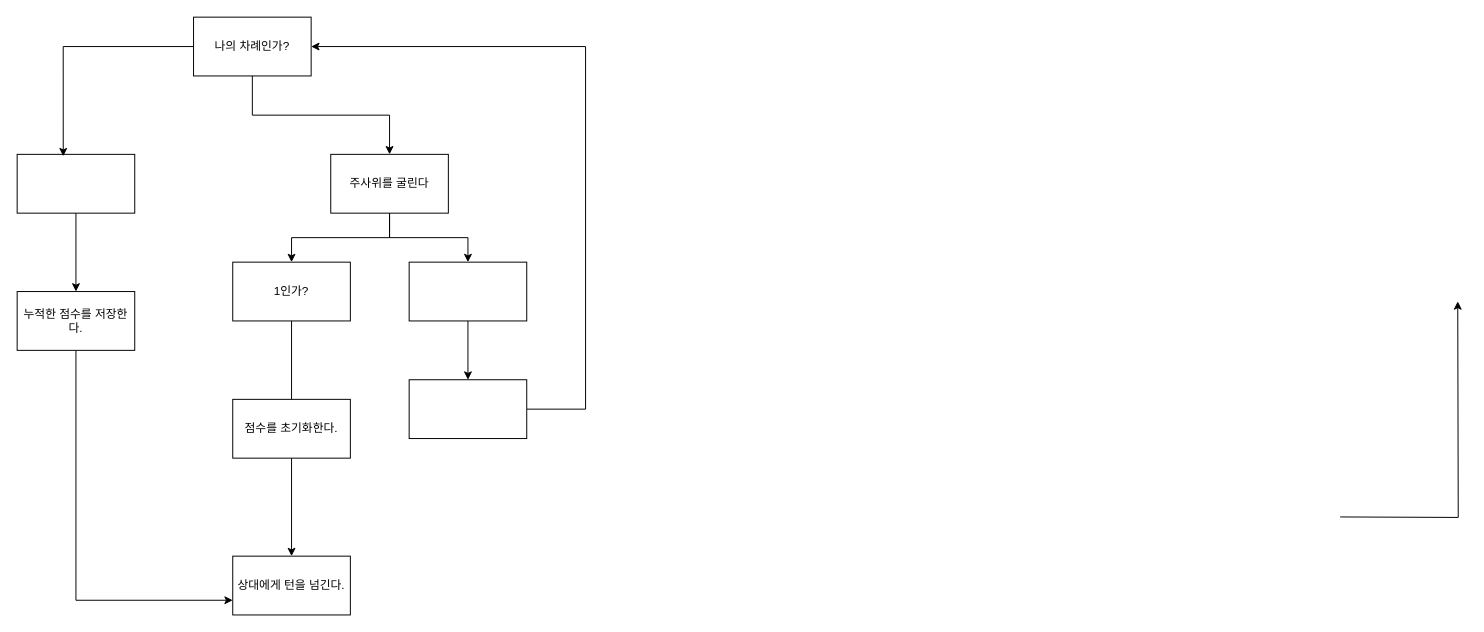
Some shapes in this 1484 by 632 pixel diagram are drawn without their labels. Here are the shapes that lost their labels. From the top down, the box of each, then its label:
(16, 153, 135, 213): 홀드 한다.
(408, 261, 527, 321): 2~6인가?
(408, 379, 527, 439): 점수를 누적한다
